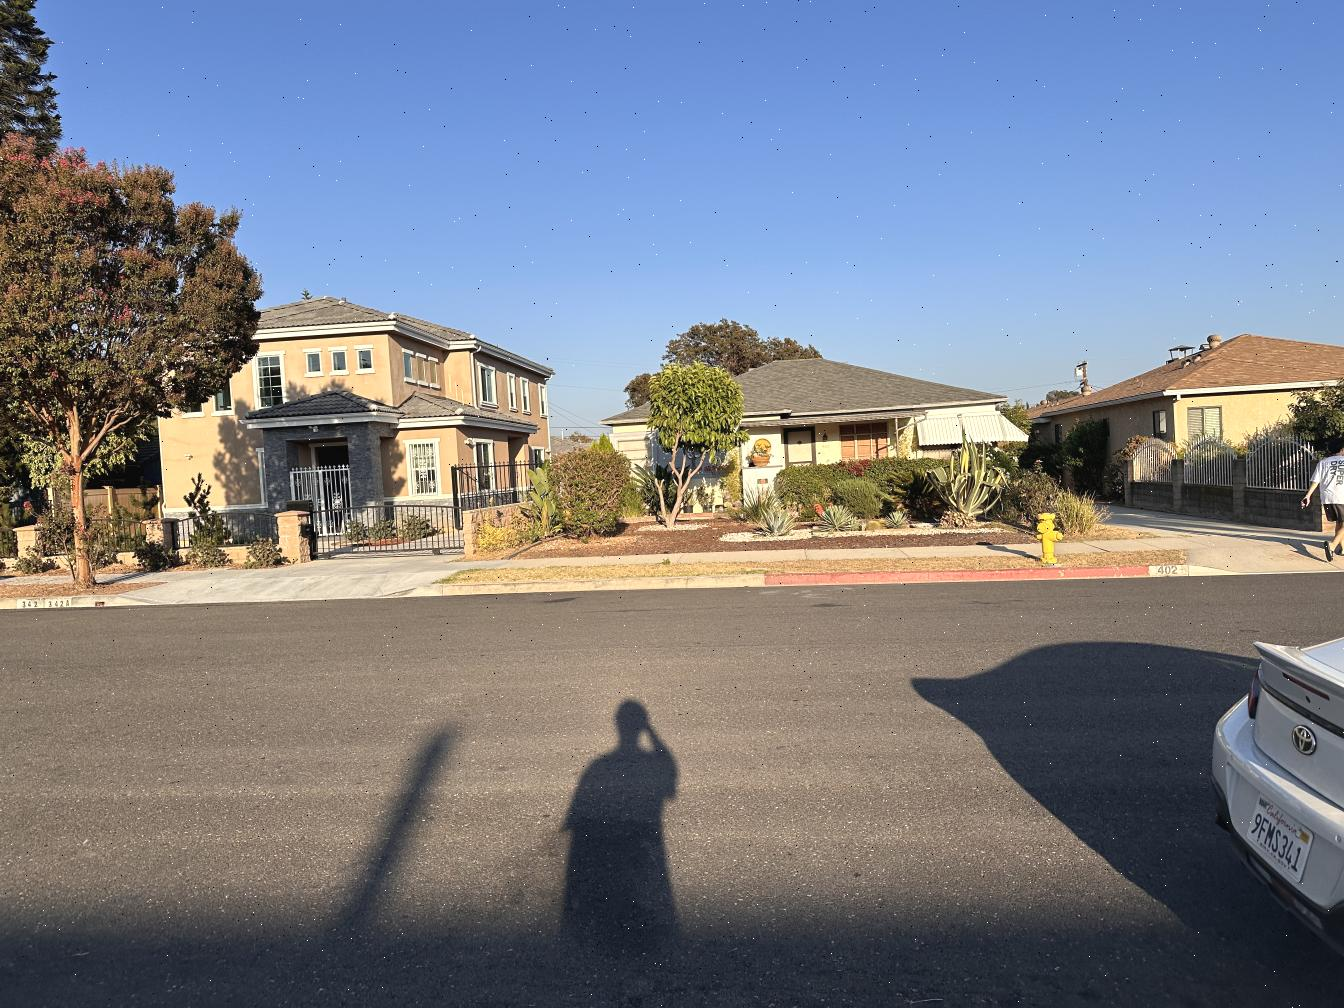curbs-laRr: (588, 573, 763, 594), (430, 578, 585, 601)
